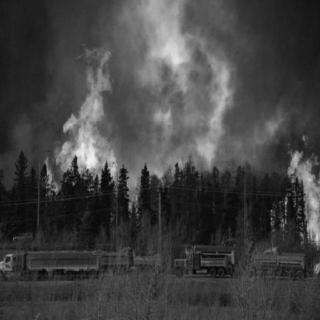Fire: (267, 140, 317, 244)
